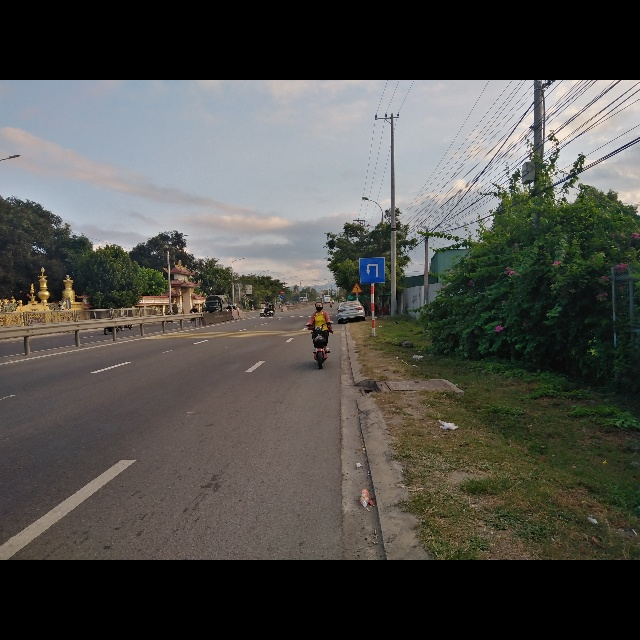Khu vực quay đầu xe: (358, 256, 385, 285)
